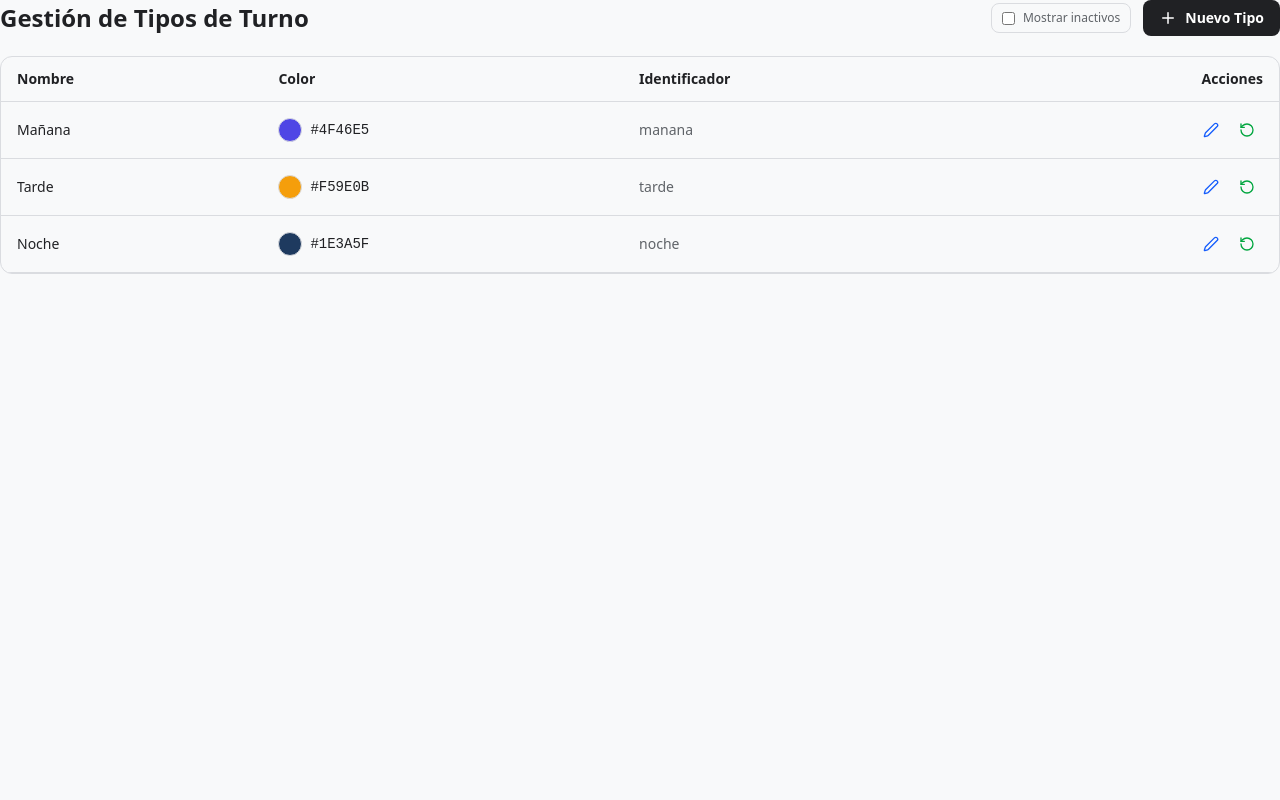
Test: ScheduleTypesPage › abre modal al hacer click en Nuevo Tipo
The image size is (1280, 800).
Click the button "Nuevo Tipo".
click(1212, 18)  # box [1143,0,1279,36]
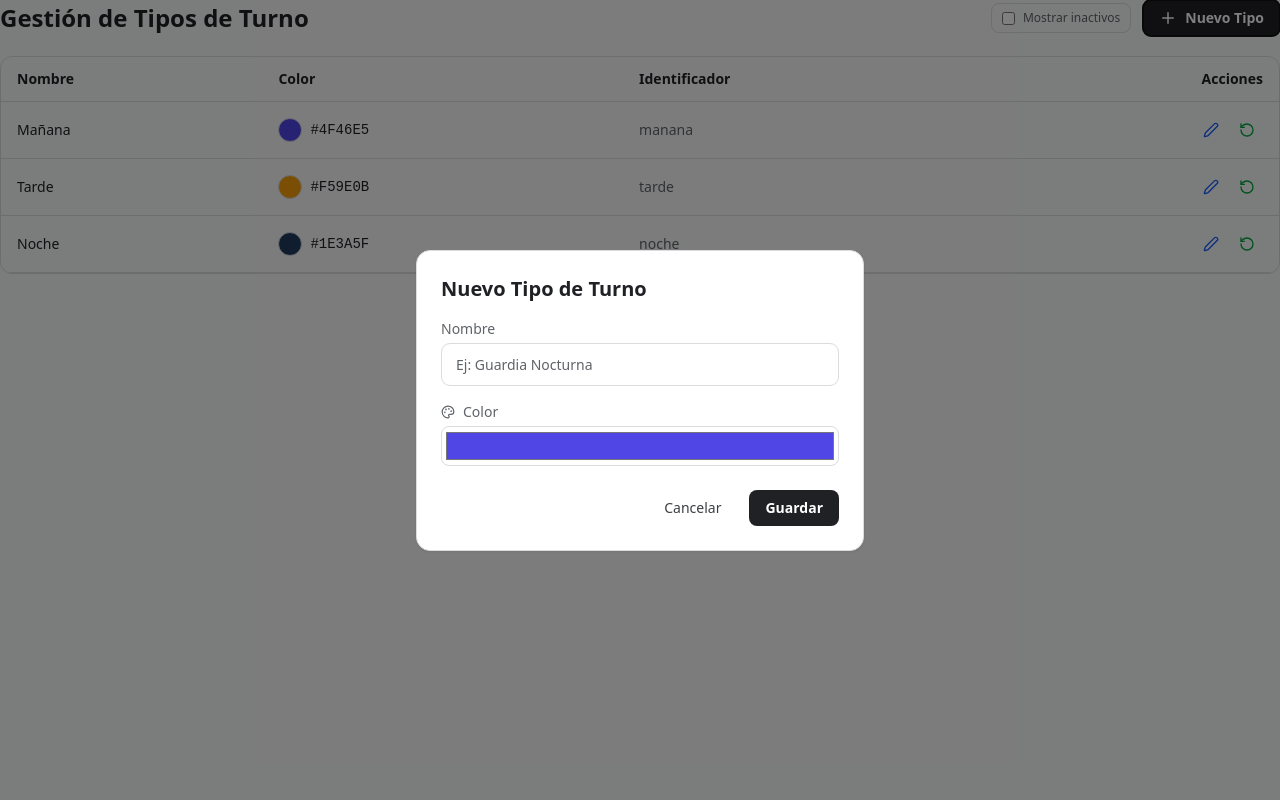
Check: the heading "Nuevo Tipo de Turno" is shown, box [441,274,647,302]
